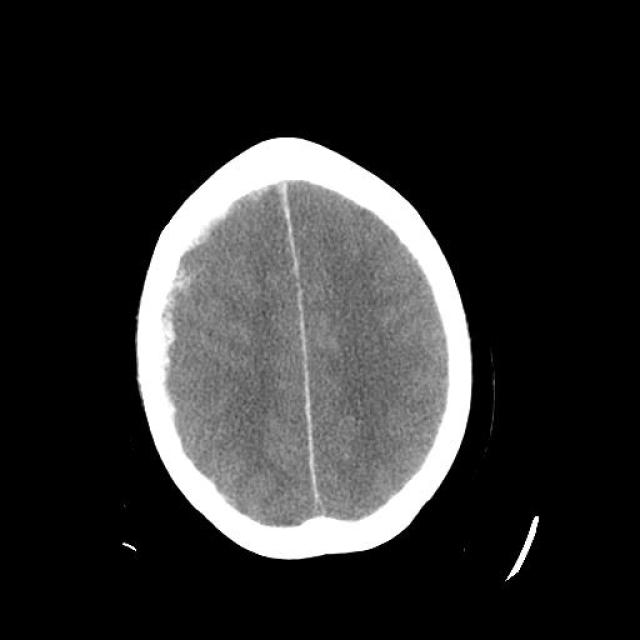Subdural: (146, 179, 262, 401)
